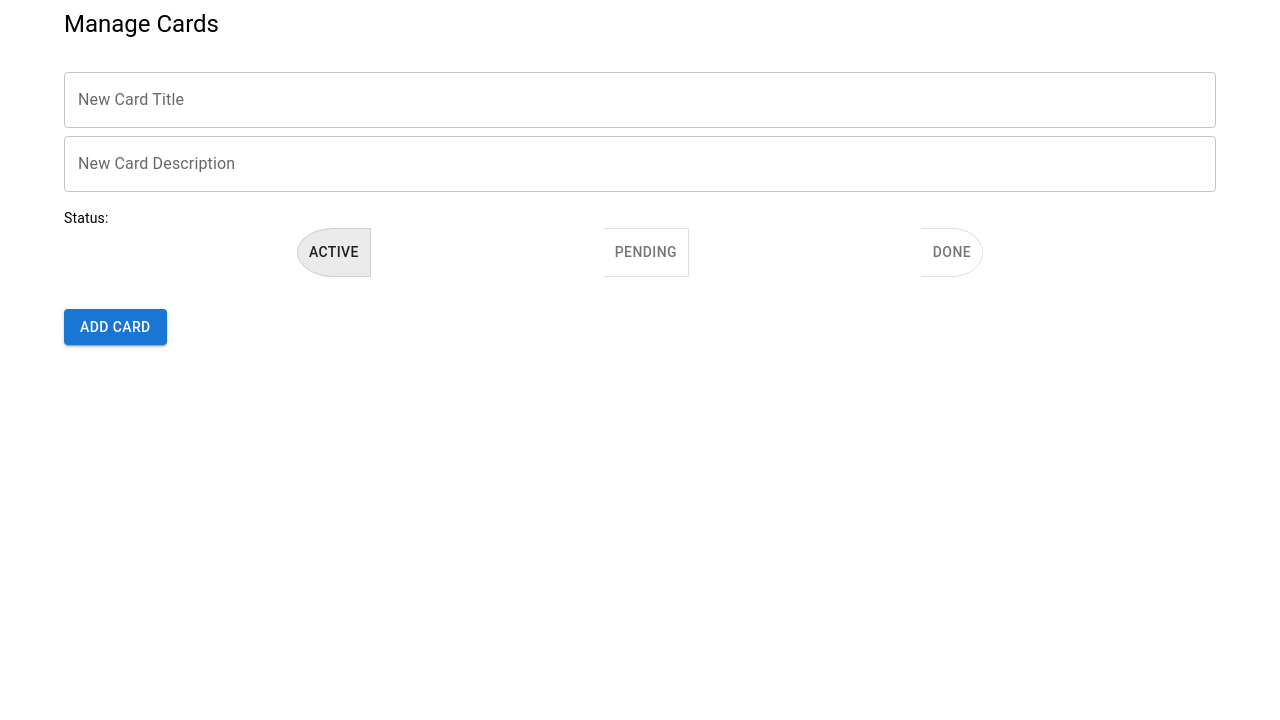
Test: ReusableCardForm › adds a new card when valid input is provided
Note: Fill in the inputs
Step 1. Type "New Task" into the field labelled "New Card Title" → x=640, y=100, box [64,72,1216,128]
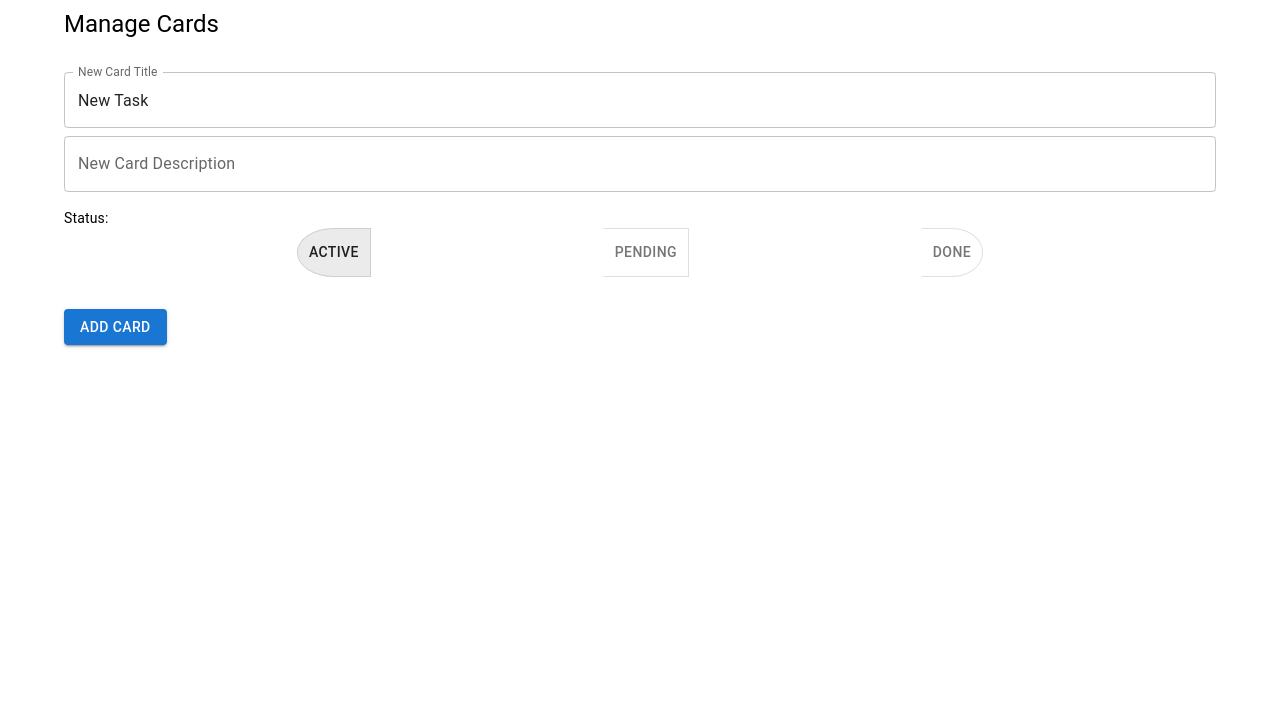
Step 2. Type "This is a new task description." into the text box labelled "New Card Description" → x=640, y=164, box [78,152,1202,176]
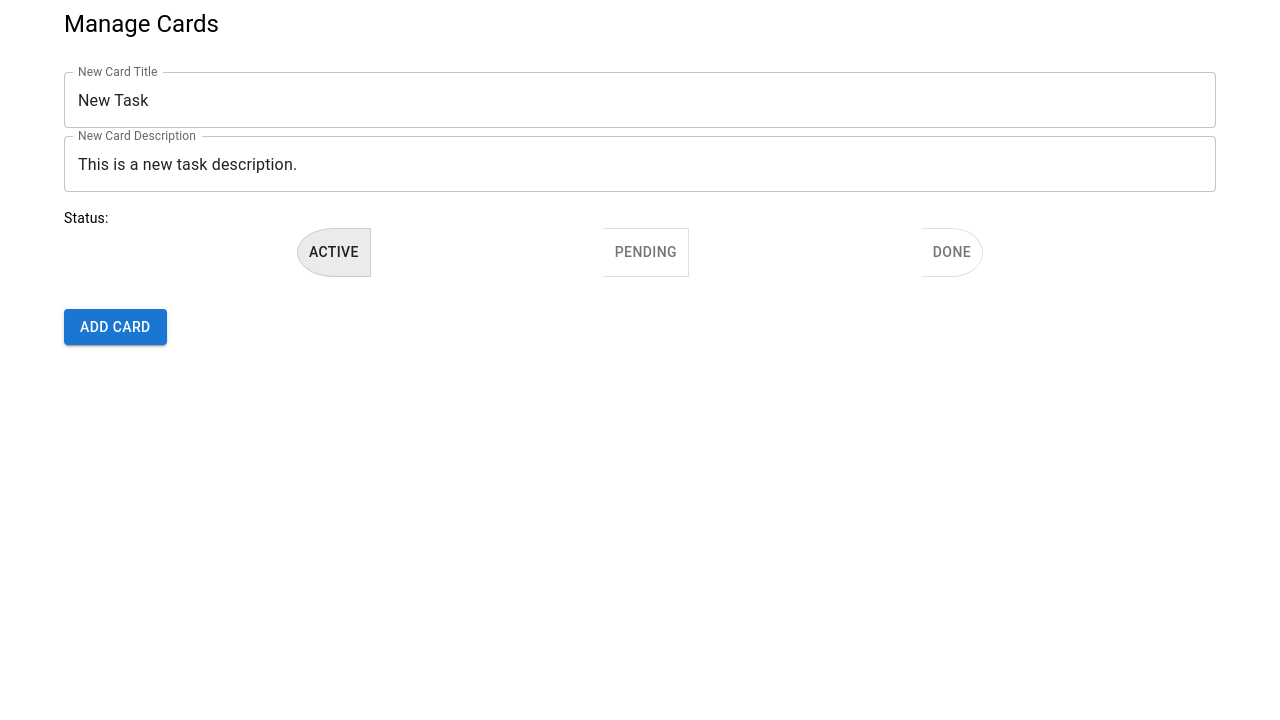
Note: Click the 'Add Card' button
Step 3. Click the button "Add Card" → x=115, y=327, box [64,308,167,345]
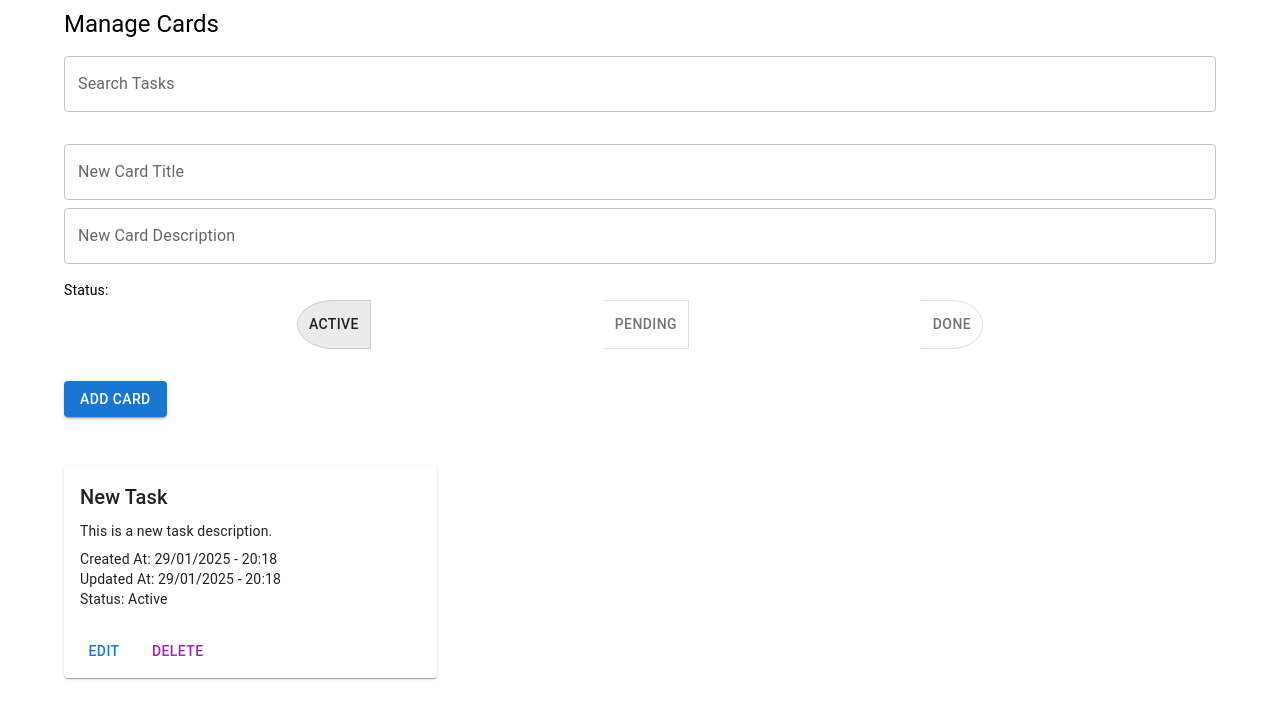
Check: the heading "New Task" is shown, box [80,485,168,509]
Check: the text "This is a new task description." is shown, box [80,523,272,539]
